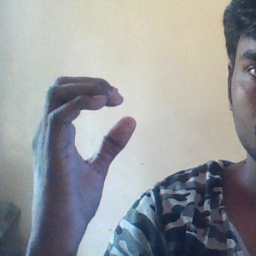C: (52, 72, 145, 194)
